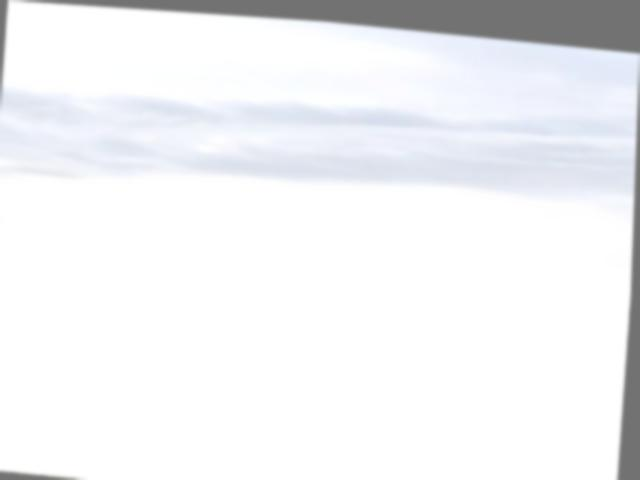bird: (244, 283, 280, 300)
